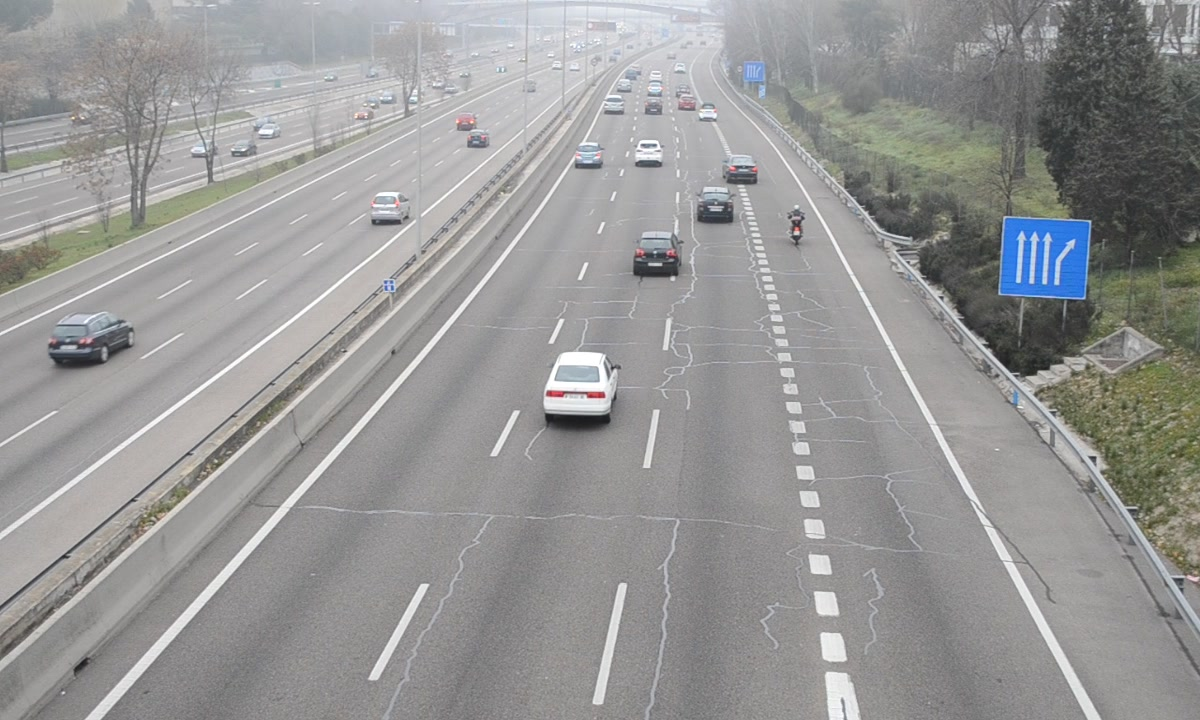car: (544, 353, 621, 417), (634, 232, 679, 276), (695, 186, 734, 221), (724, 154, 759, 185), (574, 141, 604, 169), (634, 139, 665, 165), (603, 93, 626, 117)
motorcycle: (788, 205, 807, 249)
